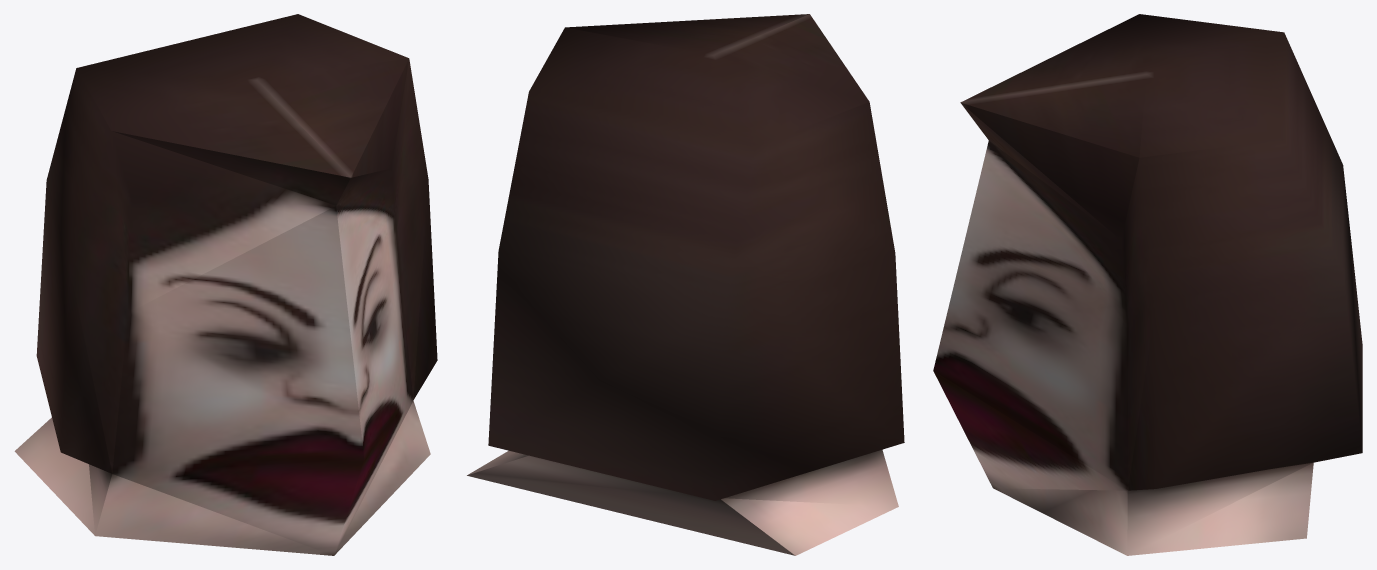
The picture shows the model from 3 angles, left to right: view 1: azimuth 30°, elevation 25°; view 2: azimuth 150°, elevation 25°; view 3: azimuth 270°, elevation 25°; orthographic projection. The views are drawn at different scales.
Parts seen in each view (by area): view 1: micromanager; view 2: micromanager; view 3: micromanager.
Boxes of the visible parts, x1,y1,x2,y2 form: micromanager: (14,14,437,555); micromanager: (467,14,904,555); micromanager: (933,14,1362,555).
Bounding box in the file's own units: 1.33 × 1.41 × 1.32.
1 material, 1 textured.
